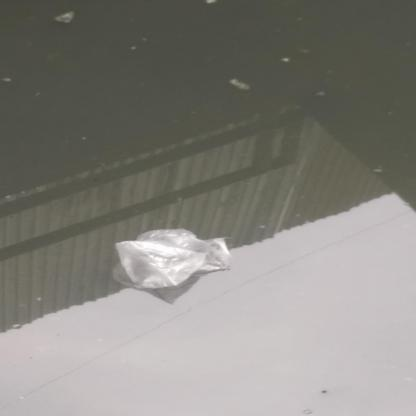plastik: (115, 228, 235, 290)
